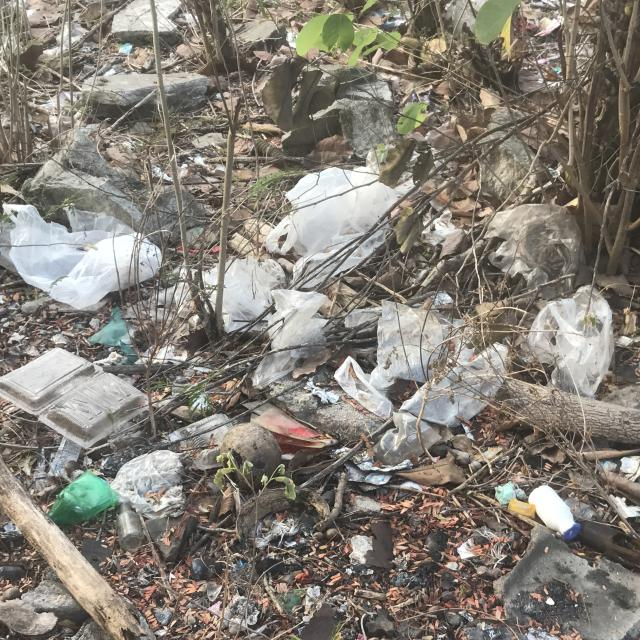HDPE Plastic: (529, 485, 581, 540)
Single-layer Plastic: (0, 204, 161, 309), (265, 166, 398, 289), (528, 285, 614, 398), (400, 342, 508, 426), (378, 301, 444, 382), (110, 450, 185, 519), (222, 256, 286, 332), (268, 289, 328, 350), (252, 346, 325, 388)
